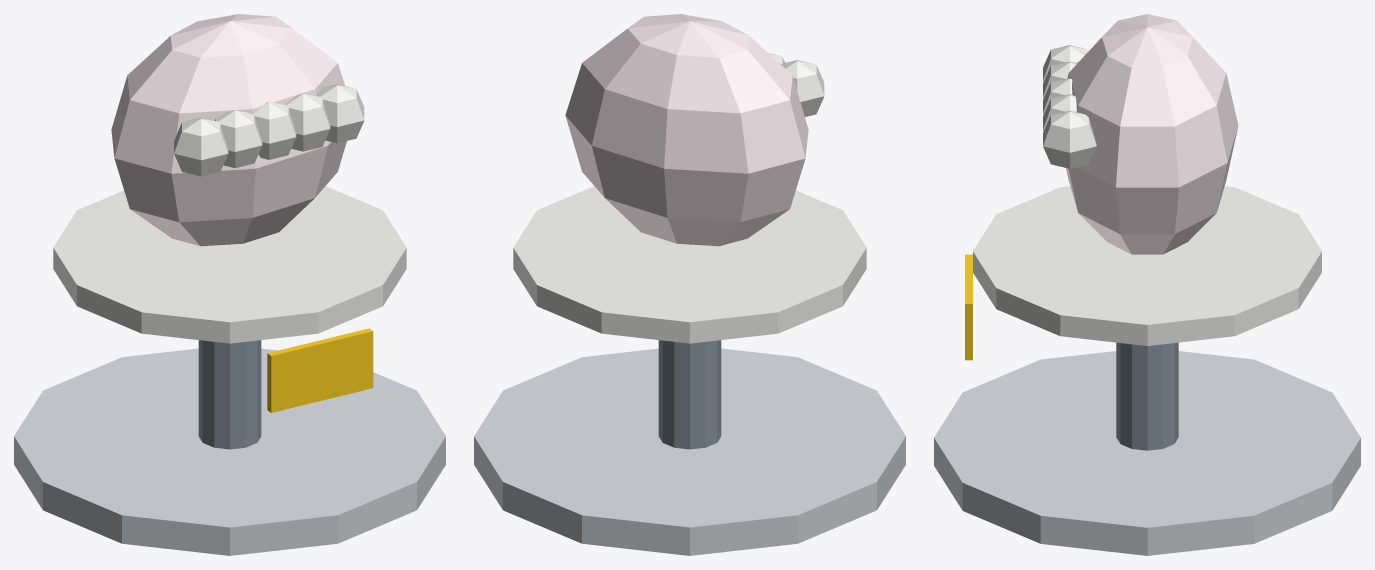
File: item-marshmallows.glb
3 renders of one model, left to right at view 1: azimuth 30°, elevation 25°; view 2: azimuth 150°, elevation 25°; view 3: azimuth 270°, elevation 25°, orthographic.
Parts seen in each view (by area): view 1: item-marshmallows; view 2: item-marshmallows; view 3: item-marshmallows.
Part boxes in pixels (x1,y1,x2,y2): item-marshmallows: (14,14,445,555); item-marshmallows: (474,14,905,555); item-marshmallows: (934,14,1360,555).
Size of the model in its own units: 1.1 by 1.25 by 1.1.
